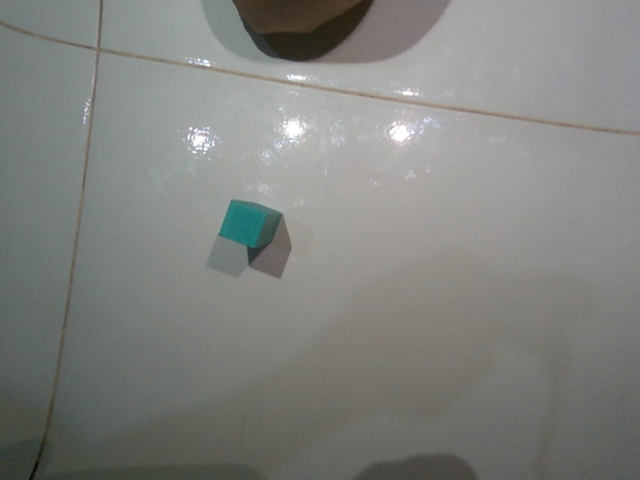Balok-Hijau: (220, 198, 278, 251)
